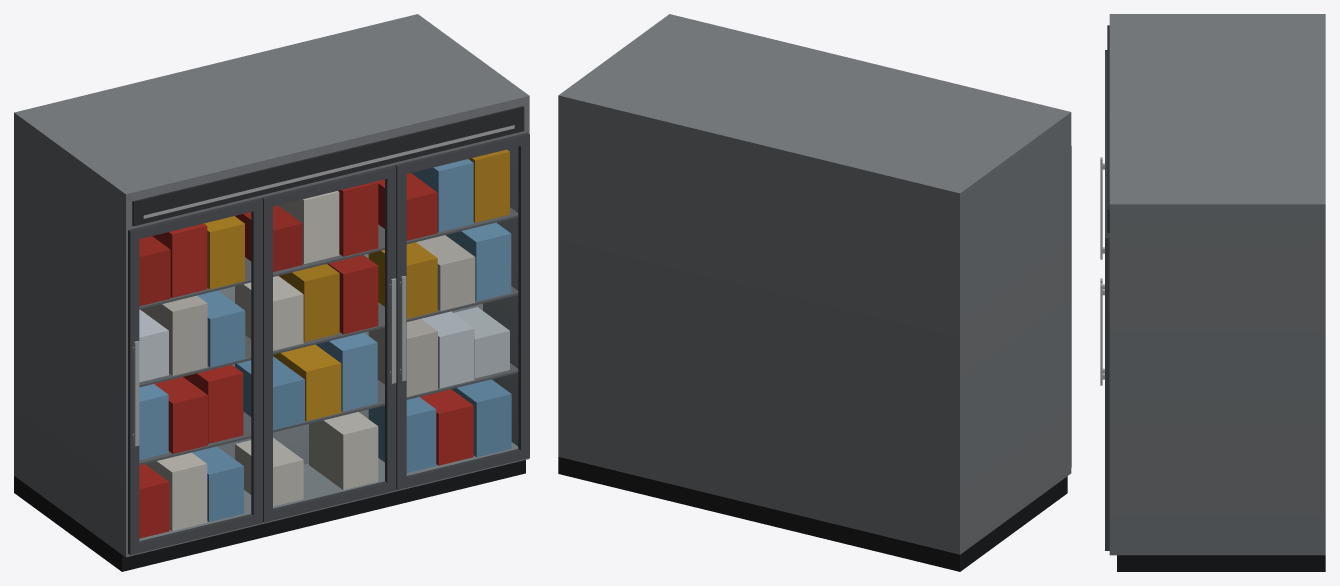
The model's file is appliance.freezer_upright.steel.glb.
The picture shows the model from 3 angles, left to right: view 1: azimuth 30°, elevation 25°; view 2: azimuth 150°, elevation 25°; view 3: azimuth 270°, elevation 25°; orthographic projection. The views are drawn at different scales.
Visible parts, largest first — view 1: appliance_freezer_upright_steel; view 2: appliance_freezer_upright_steel; view 3: appliance_freezer_upright_steel.
Part boxes in pixels (x1,y1,x2,y2): appliance_freezer_upright_steel: (14,14,529,571); appliance_freezer_upright_steel: (558,14,1071,571); appliance_freezer_upright_steel: (1100,14,1325,571).
Size of what is drawn, in the model's own units: 2.44 by 2.2 by 1.22.
